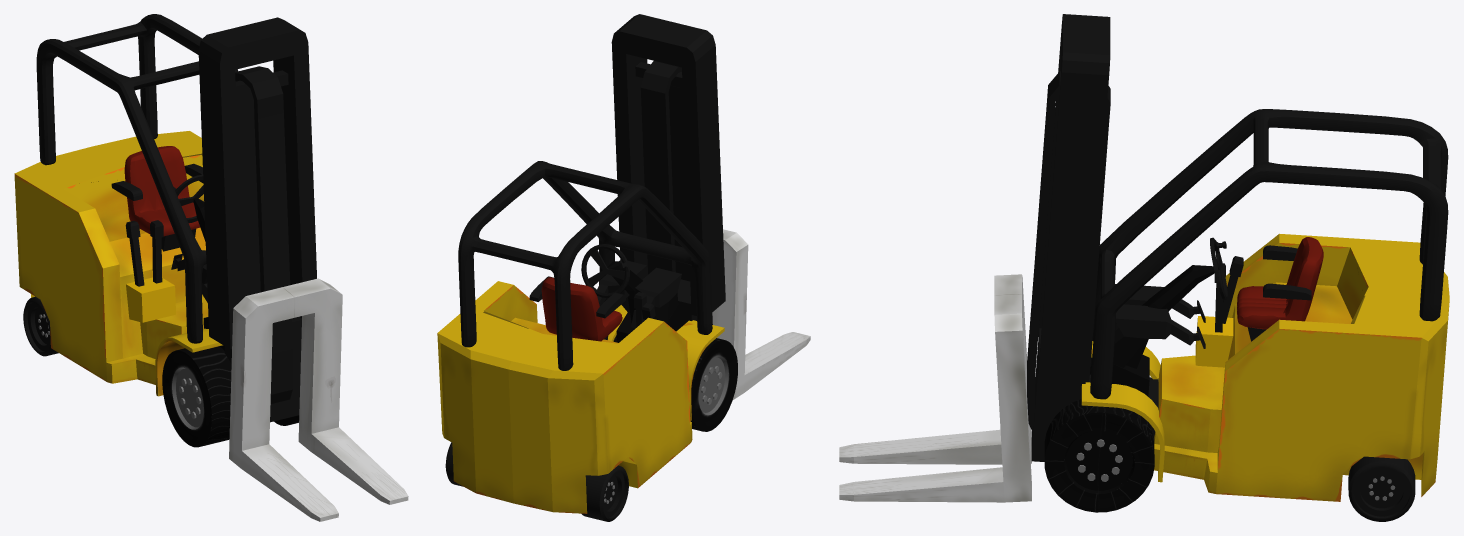
Rendered from ForkLift-1.glb.
3 renders of one model, left to right at view 1: azimuth 30°, elevation 25°; view 2: azimuth 150°, elevation 25°; view 3: azimuth 270°, elevation 25°, orthographic. The views are drawn at different scales.
Parts seen in each view (by area): view 1: Cube.651, Cube.655, Cube.656, Plane.837, Plane.836, Cylinder.261, Cube.653, Cube.660, Cylinder.262, Circle.022, Cube.661, Cube.662 (+2 smaller); view 2: Cube.651, Cube.655, Plane.837, Plane.836, Cube.656, Cylinder.261, Cube.653, Cube.658, Cylinder.262, Circle.022, Circle.023, Cube.657 (+1 smaller); view 3: Cube.651, Plane.837, Cube.655, Cube.656, Cylinder.261, Plane.836, Cylinder.262, Cube.658, Cube.653, Cube.657, Circle.022, Cube.660 (+1 smaller).
Part boxes in pixels (x1,y1,x2,y2): Cube.651: (14,131,208,384); Cube.655: (198,17,316,422); Cube.656: (229,278,408,521); Plane.837: (36,14,237,343); Plane.836: (235,66,292,403); Cylinder.261: (162,346,299,447); Cube.653: (124,146,200,236); Cube.660: (126,277,175,322); Cylinder.262: (23,296,58,356); Circle.022: (155,328,222,396); Cube.661: (125,221,144,286); Cube.662: (150,220,163,283); Cube.651: (437,281,692,513); Cube.655: (611,14,725,328); Plane.837: (458,161,712,370); Plane.836: (640,61,690,281); Cube.656: (712,229,810,399); Cylinder.261: (613,335,737,431); Cube.653: (541,277,622,341); Cube.658: (597,260,681,328); Cylinder.262: (445,442,628,521); Circle.022: (608,305,724,421); Circle.023: (581,244,629,297); Cube.657: (607,261,679,342); Cube.651: (1154,233,1449,501); Plane.837: (1090,109,1448,399); Cube.655: (1031,14,1158,461); Cube.656: (839,274,1031,502); Cylinder.261: (1044,357,1154,512); Plane.836: (1027,71,1110,432); Cylinder.262: (1348,456,1415,521); Cube.658: (1113,284,1205,367); Cube.653: (1237,237,1323,329); Cube.657: (1112,265,1214,396); Circle.022: (1081,341,1164,482); Cube.660: (1195,316,1233,367).
Size of the model in its own units: 2.59 by 5.68 by 7.03.
9 materials, 4 textured.
